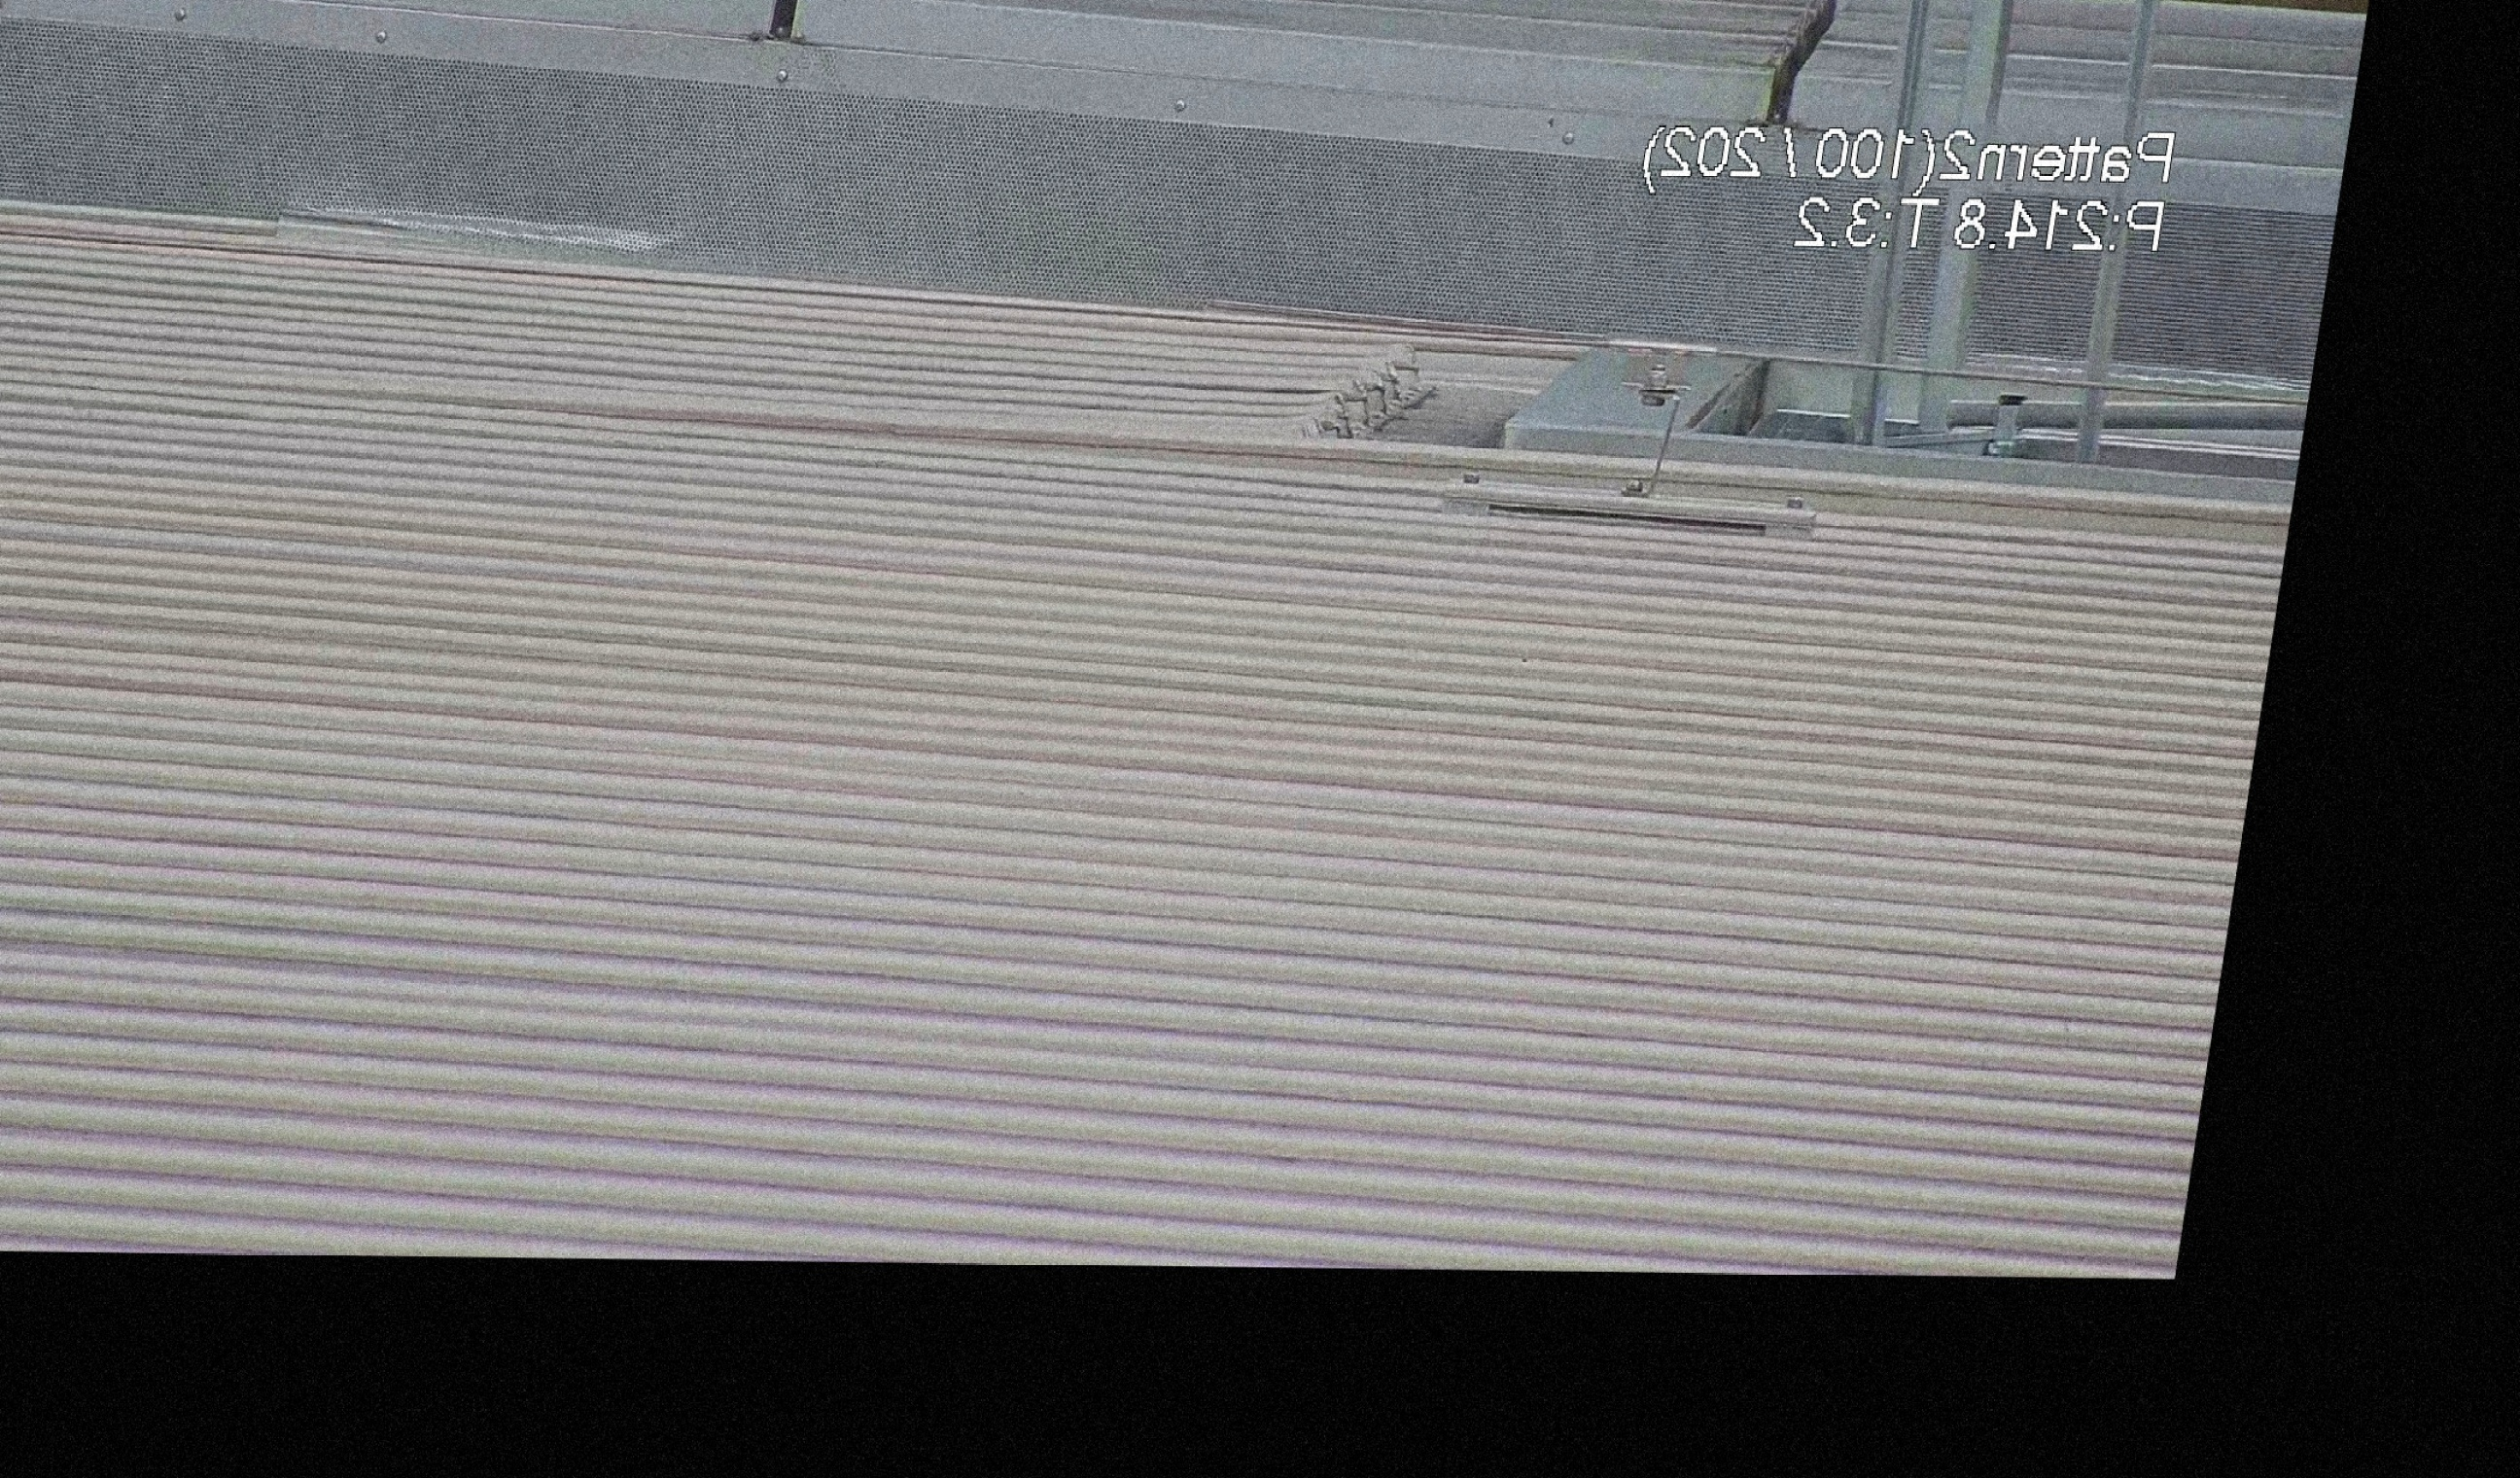Other: (1752, 0, 1887, 158)
